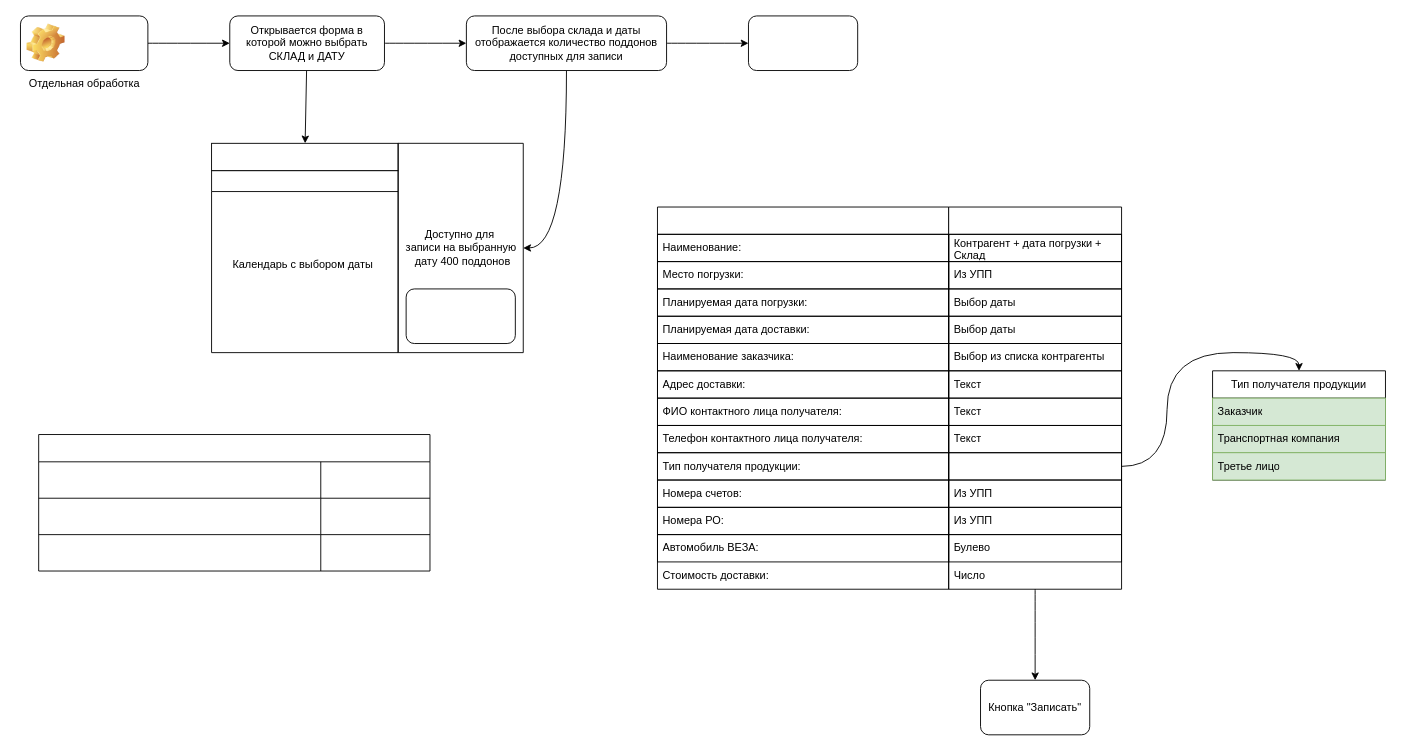
This 1401x751 diagram has some shape labels left out. The box of each missing label's shape, as (x1, y1, x2, y2) in pixels:
List: (948, 206, 1122, 589)
Table: (38, 434, 430, 571)
Выбор склада:: (211, 142, 398, 171)
Выпадающий список: (948, 452, 1122, 480)
Заявка на ТС: (20, 15, 148, 71)
ОК: (405, 288, 515, 344)
Отображается выбранная дата: (211, 170, 398, 353)
После выбора открывается форма: (748, 15, 858, 71)
Форма: (657, 206, 949, 589)
